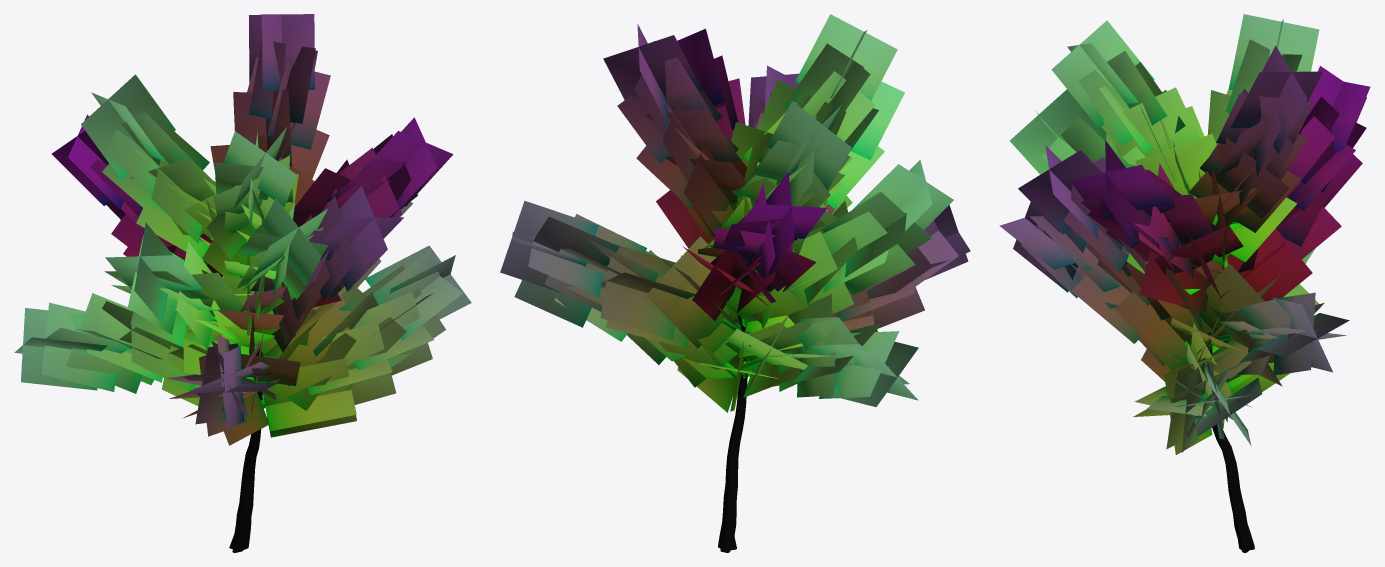
File: URP_P6_Tree_11_LOD_0.fbx
The picture shows the model from 3 angles, left to right: view 1: azimuth 30°, elevation 25°; view 2: azimuth 150°, elevation 25°; view 3: azimuth 270°, elevation 25°; orthographic projection.
Parts seen in each view (by area): view 1: Tree_11_LOD_0; view 2: Tree_11_LOD_0; view 3: Tree_11_LOD_0.
Part boxes in pixels (bbox=[...]): Tree_11_LOD_0: bbox=[14, 14, 471, 552]; Tree_11_LOD_0: bbox=[500, 14, 970, 552]; Tree_11_LOD_0: bbox=[999, 14, 1370, 552].
Bounding box in the file's own units: 951 × 1129 × 728.
